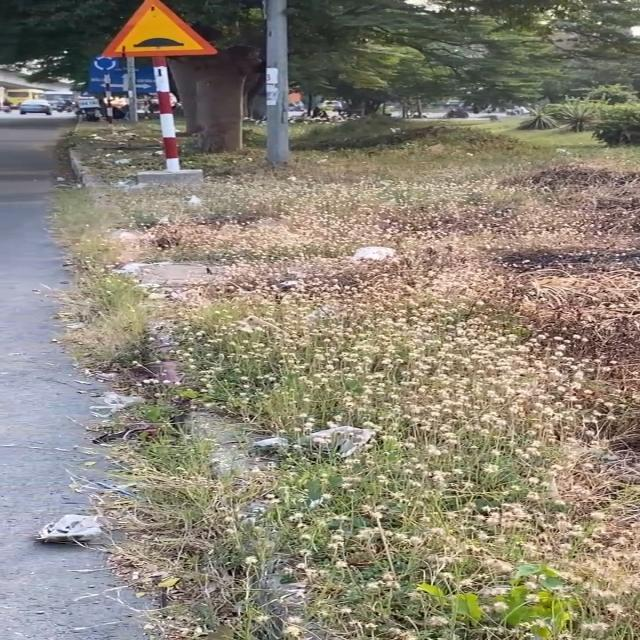221-duong-go-ghe: (98, 0, 218, 56)
303-noi-giao-nhau-chay-theo-vong-xuyen: (94, 54, 118, 72)
